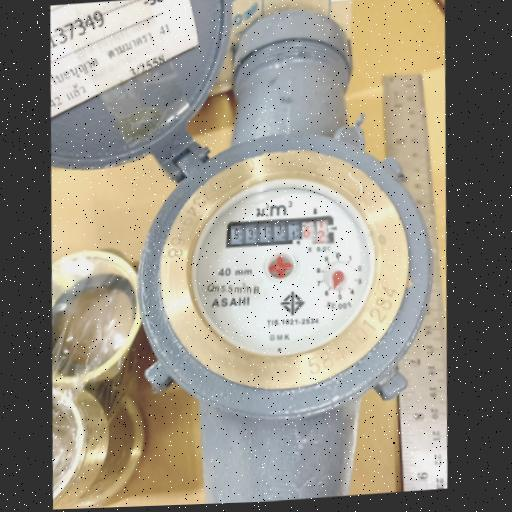1: (258, 223, 271, 242), (288, 221, 299, 240)
2: (315, 220, 327, 243)
3: (245, 224, 258, 243), (273, 222, 286, 241)
6: (301, 221, 314, 238)
9: (230, 225, 243, 244)
border_water_meter_number: (225, 214, 335, 251)
